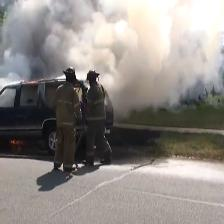smoke: (4, 1, 137, 75), (140, 3, 219, 106)
